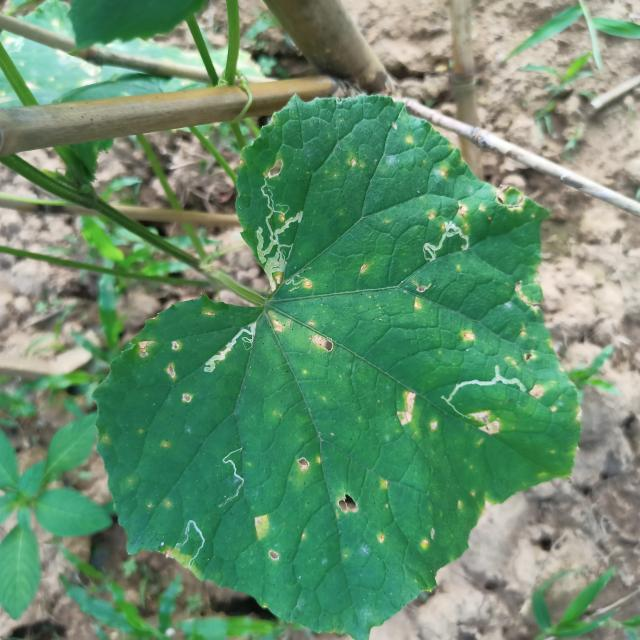disease_cucumber: (254, 451, 395, 570), (347, 123, 466, 187), (134, 332, 195, 410), (462, 320, 547, 370), (270, 310, 342, 357), (391, 388, 440, 438), (469, 408, 507, 442), (532, 381, 564, 416)
